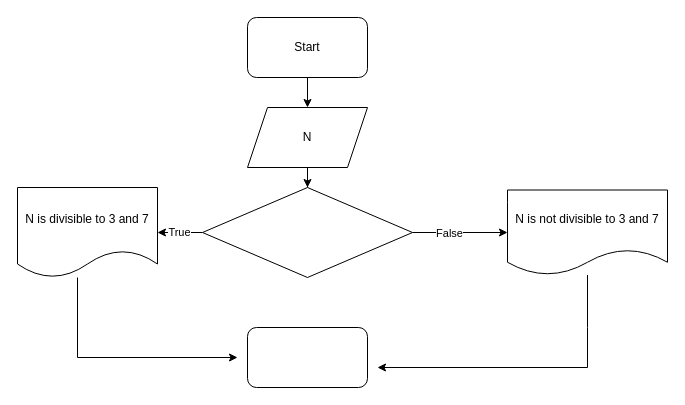
Some shapes in this 685 by 405 pixel diagram are drawn without their labels. Each missing label, with the centre of its shape:
End: pixel 307 357
N%3==0 && N%7==0: pixel 307 232
